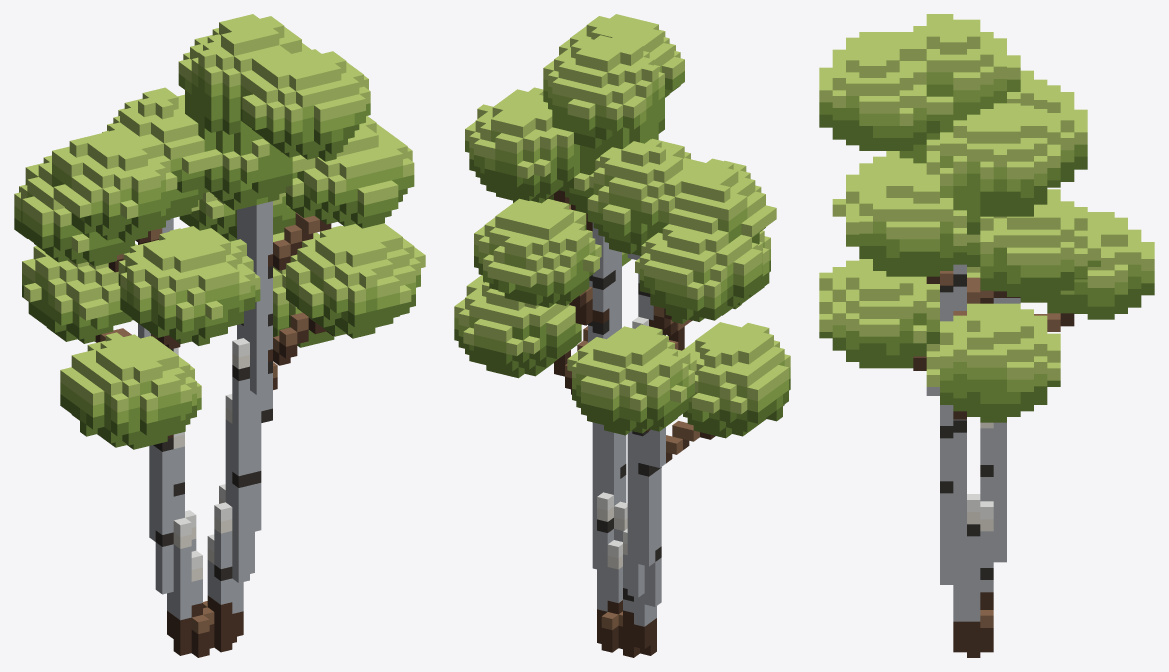
File: SM_Birch_B.fbx
The picture shows the model from 3 angles, left to right: view 1: azimuth 30°, elevation 25°; view 2: azimuth 150°, elevation 25°; view 3: azimuth 270°, elevation 25°; orthographic projection. The views are drawn at different scales.
Visible parts, largest first — view 1: SM_Birch_B; view 2: SM_Birch_B; view 3: SM_Birch_B.
Boxes of the visible parts, x1,y1,x2,y2 form: SM_Birch_B: (14, 14, 425, 657); SM_Birch_B: (454, 14, 790, 657); SM_Birch_B: (819, 14, 1154, 657).
Bounding box in the file's own units: 2.8 × 5.2 × 2.5.
Materials: 1 (1 with a texture image).
